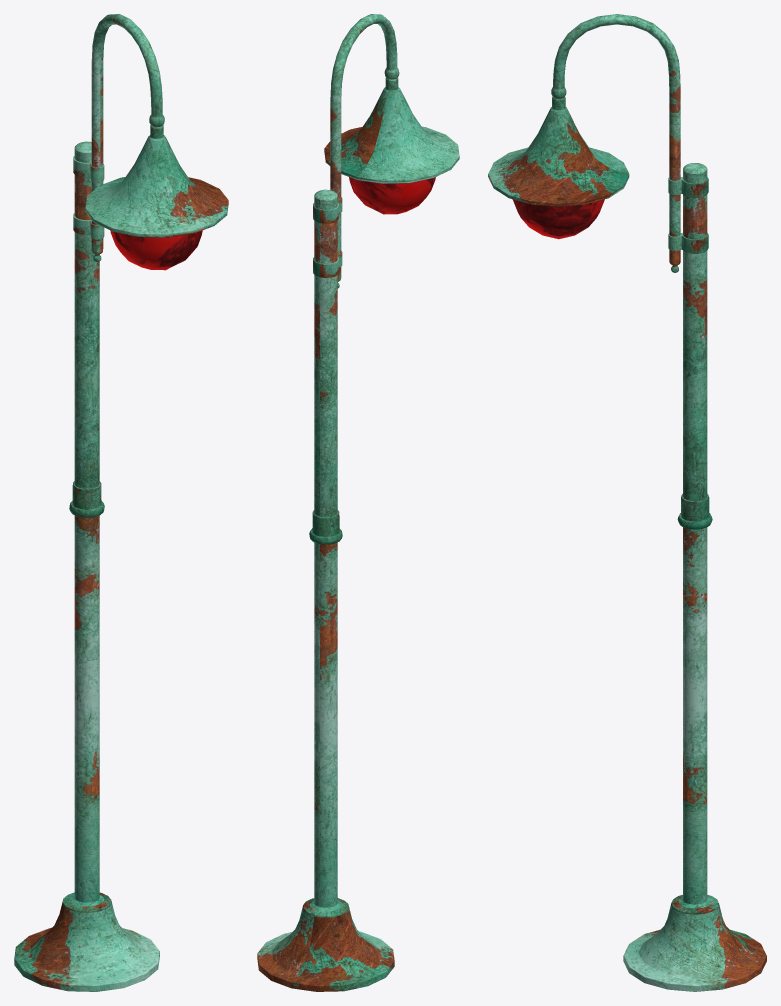
File: lamparaLuzQuemada.obj
3 renders of one model, left to right at view 1: azimuth 30°, elevation 25°; view 2: azimuth 150°, elevation 25°; view 3: azimuth 270°, elevation 25°, orthographic. The views are drawn at different scales.
Visible parts, largest first — view 1: Lampione_Base_LP_Mesh_005, Reggi_Lampada_LP_Mesh_004, Vetro_LP_Mesh_001, Fascia_Lampada_Superiore_LP_Mesh_002; view 2: Lampione_Base_LP_Mesh_005, Reggi_Lampada_LP_Mesh_004, Vetro_LP_Mesh_001; view 3: Lampione_Base_LP_Mesh_005, Reggi_Lampada_LP_Mesh_004, Vetro_LP_Mesh_001, Fascia_Lampada_Inferiore_LP_Mesh_003, Fascia_Lampada_Superiore_LP_Mesh_002.
Part boxes in pixels (x1=…): Lampione_Base_LP_Mesh_005: x1=14, y1=141, x2=159, y2=991; Reggi_Lampada_LP_Mesh_004: x1=85, y1=14, x2=228, y2=261; Vetro_LP_Mesh_001: x1=110, y1=230, x2=202, y2=270; Fascia_Lampada_Superiore_LP_Mesh_002: x1=73, y1=156, x2=104, y2=182; Lampione_Base_LP_Mesh_005: x1=257, y1=189, x2=394, y2=991; Reggi_Lampada_LP_Mesh_004: x1=324, y1=14, x2=459, y2=288; Vetro_LP_Mesh_001: x1=349, y1=177, x2=435, y2=214; Lampione_Base_LP_Mesh_005: x1=623, y1=163, x2=766, y2=991; Reggi_Lampada_LP_Mesh_004: x1=488, y1=14, x2=680, y2=272; Vetro_LP_Mesh_001: x1=512, y1=199, x2=604, y2=239; Fascia_Lampada_Inferiore_LP_Mesh_003: x1=668, y1=232, x2=708, y2=253; Fascia_Lampada_Superiore_LP_Mesh_002: x1=668, y1=177, x2=708, y2=198.
Size of the model in its own units: 1.39 by 10.1 by 2.69.
